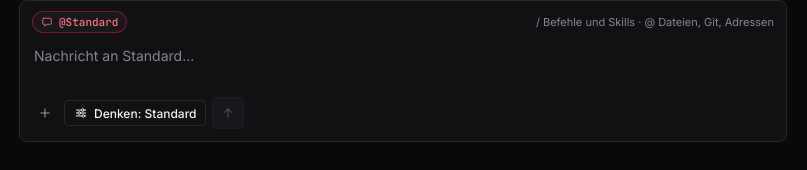
Test: Slash-Menü › filtert, wählt per Pfeiltasten und Enter und behält den Fokus
The image size is (807, 170).
Step 1. Type "/pl" into the text box labelled "Nachricht" → coordinates (403, 65), box [32, 43, 774, 87]
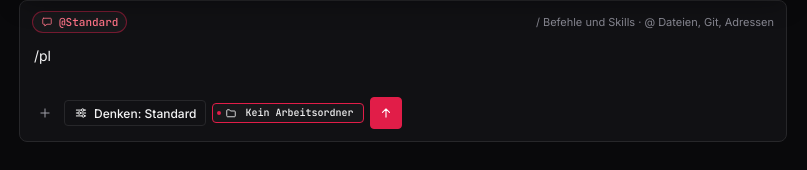
Step 2. Press ArrowDown in the text box named "Nachricht", box [32, 43, 774, 87]
Step 3. Press Enter in the text box named "Nachricht", box [32, 43, 774, 87]
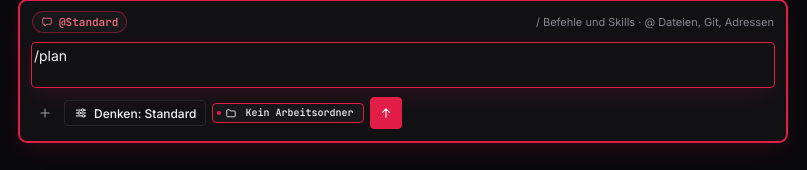
Expected: the text box named "Nachricht" holds "/plan ", [32, 43, 774, 87]
